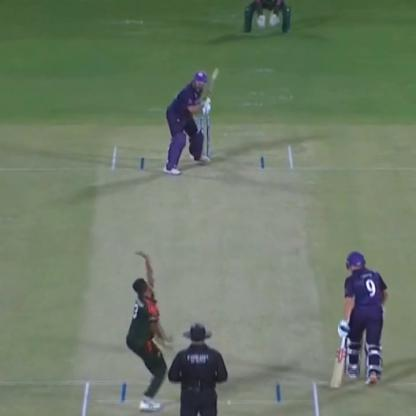ball: (162, 335, 178, 348)
bat: (202, 62, 224, 113), (329, 331, 346, 394)
pitch: (74, 145, 324, 416)
